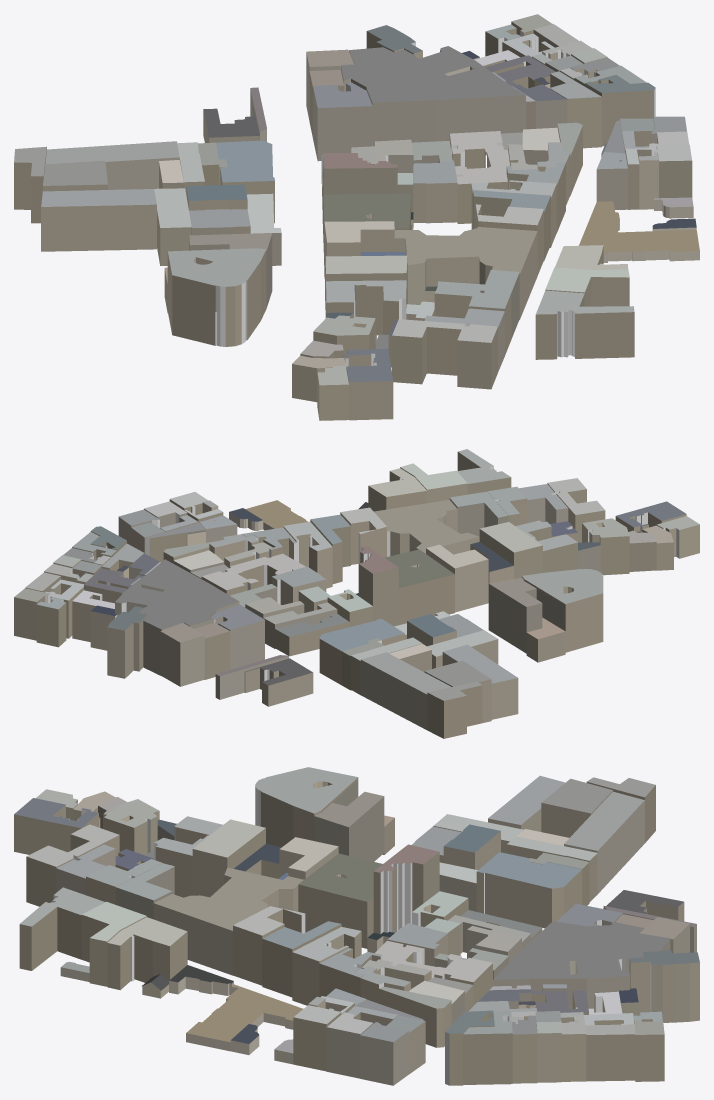
3 renders of one model, top to bottom at view 1: azimuth 30°, elevation 25°; view 2: azimuth 150°, elevation 25°; view 3: azimuth 270°, elevation 25°, orthographic. The views are drawn at different scales.
Visible parts, largest first — view 1: tuile; view 2: tuile; view 3: tuile.
Boxes of the visible parts, box(x1,y1,x2,y2) form: tuile: box(14, 14, 699, 420); tuile: box(14, 449, 699, 738); tuile: box(14, 767, 699, 1085).
Bounding box in the file's own units: 258 × 35.61 × 274.
